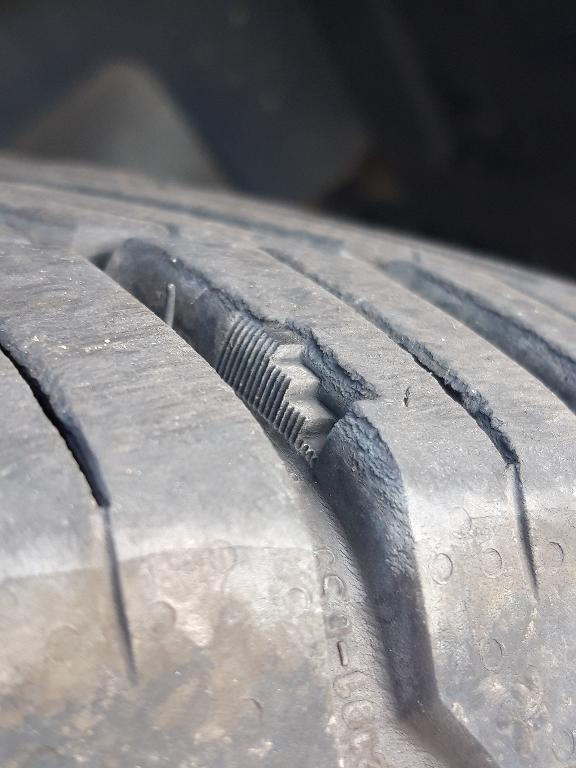temoin:80: (210, 293, 392, 481)
